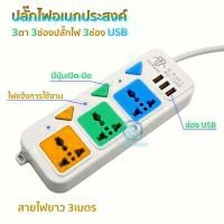three_eye_plug: (13, 45, 198, 195)
